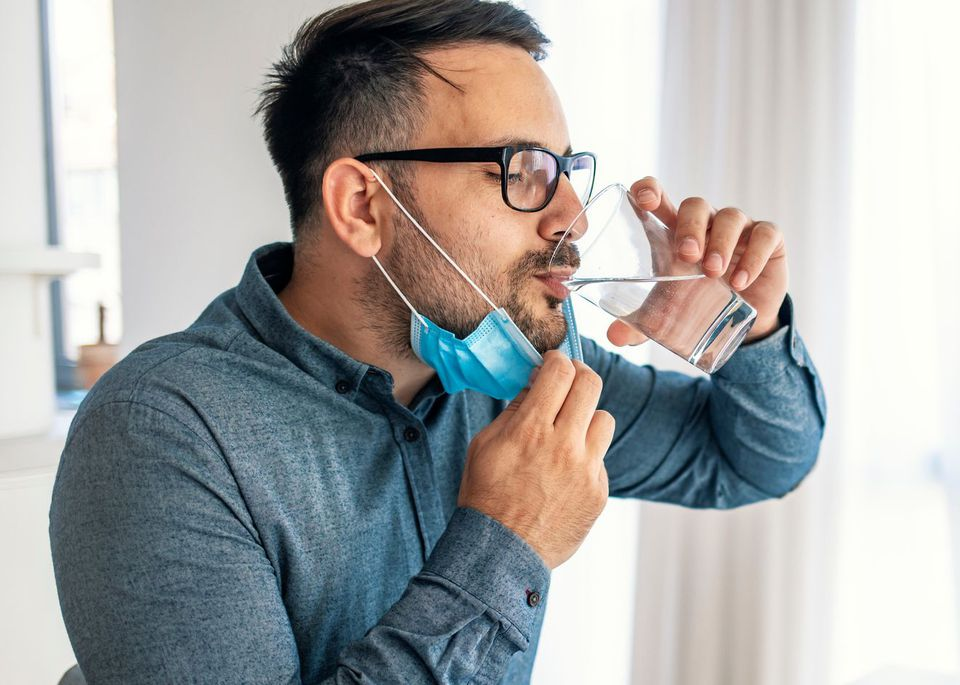with_incorrect_mask: (411, 100, 585, 366)
